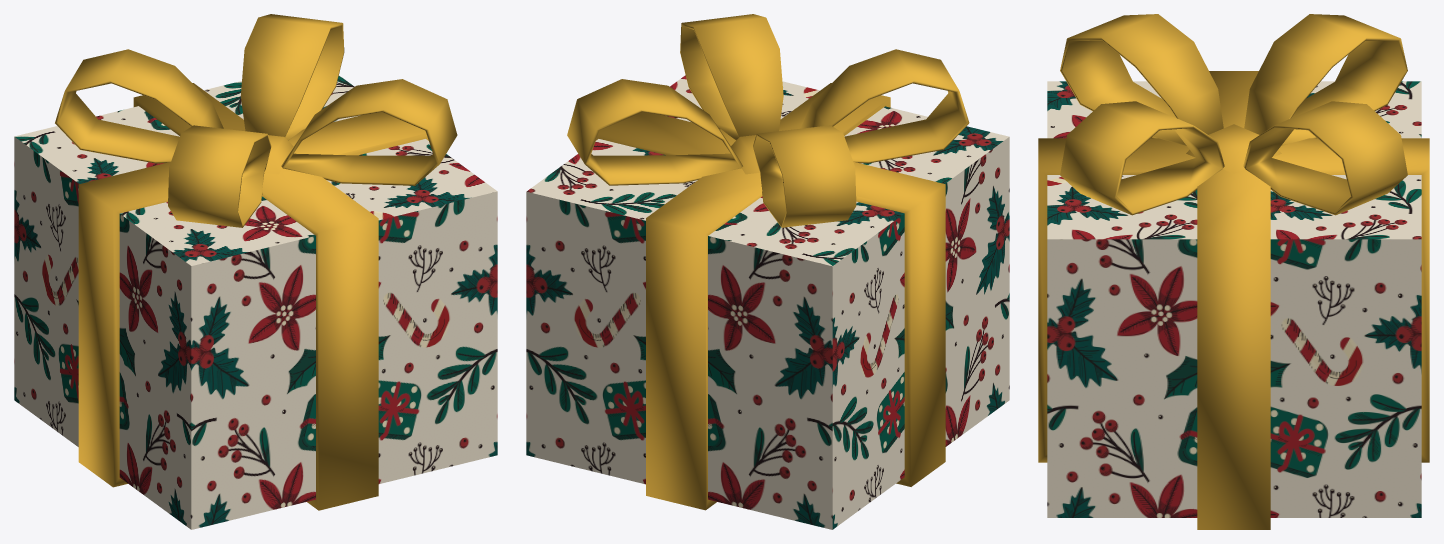
File: giftBigWhite3.glb
The picture shows the model from 3 angles, left to right: view 1: azimuth 30°, elevation 25°; view 2: azimuth 150°, elevation 25°; view 3: azimuth 270°, elevation 25°; orthographic projection. The views are drawn at different scales.
Parts seen in each view (by area): view 1: GiftBigWhite3; view 2: GiftBigWhite3; view 3: GiftBigWhite3.
Boxes of the visible parts, x1,y1,x2,y2 form: GiftBigWhite3: [14, 14, 497, 529]; GiftBigWhite3: [526, 14, 1009, 529]; GiftBigWhite3: [1038, 14, 1429, 529].
Size of what is drawn, in the model's own units: 0.9149 by 0.9717 by 0.9149.
2 materials, 2 textured.
